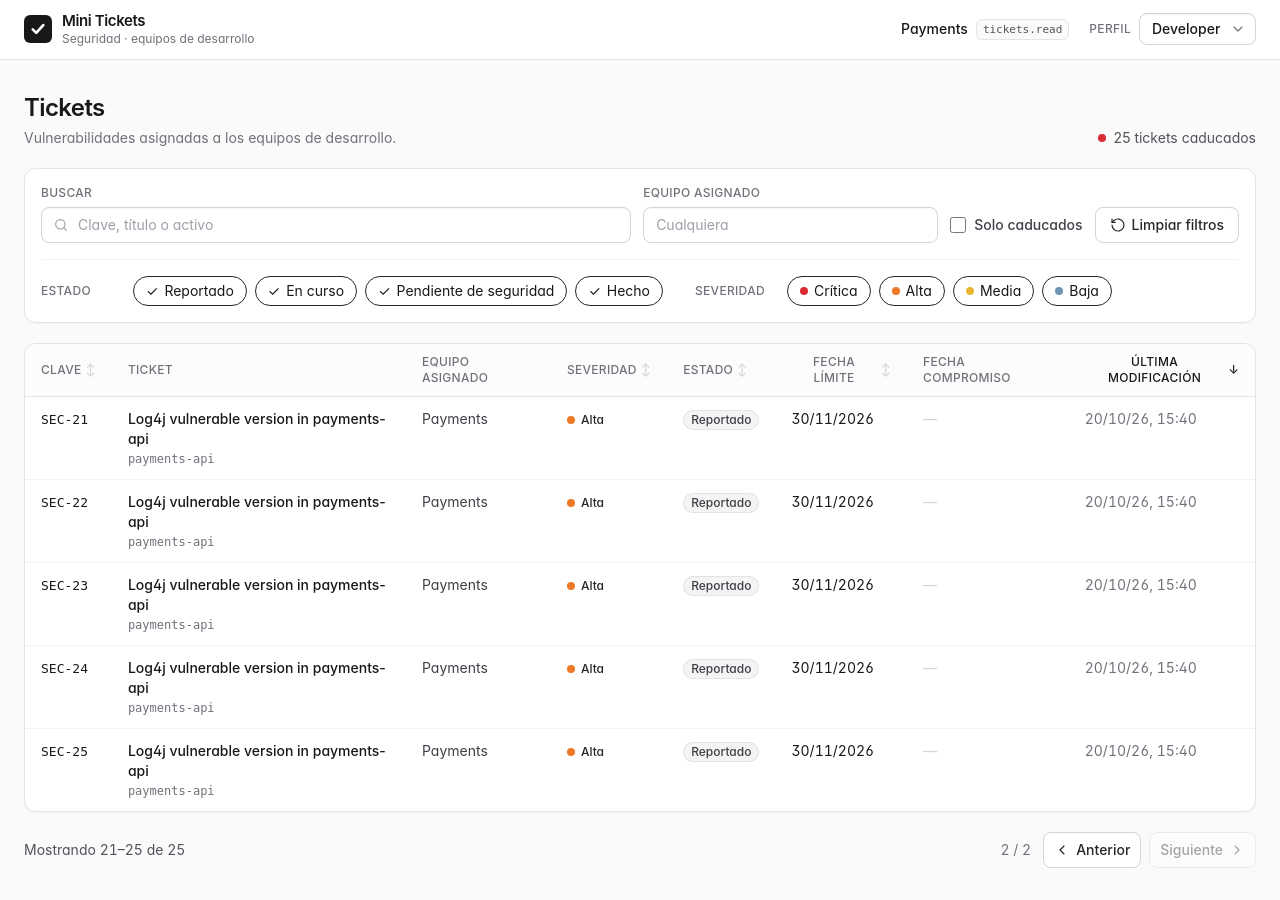
Test case: pagination › the previous page goes back
expect the text "Mostrando 21–25 de 25" is shown: met, box [24,840,185,860]
Click the button "Anterior".
click(1092, 850)  # box [1043,832,1141,868]
(page scrolled)
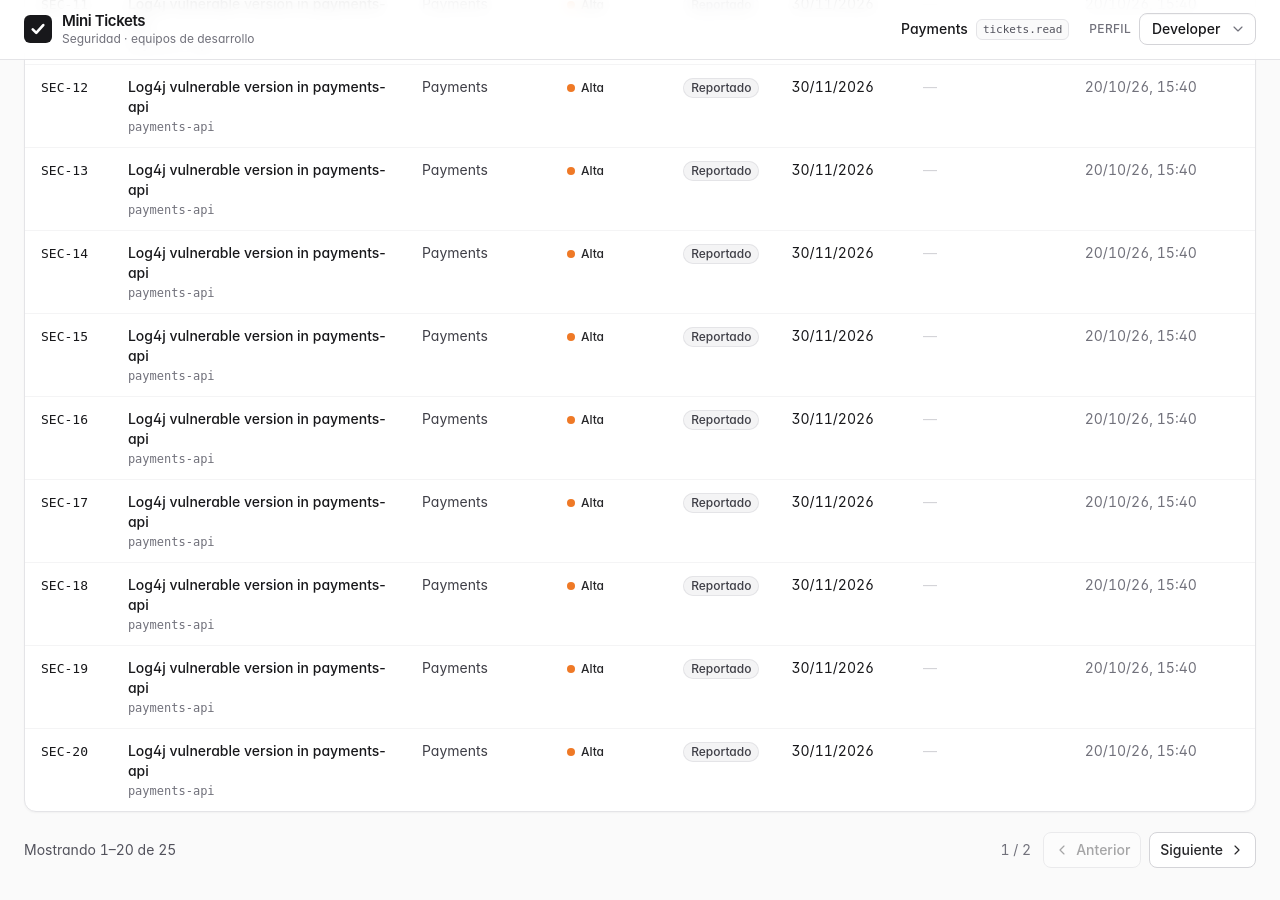
expect the text "Mostrando 1–20 de 25" is shown: met, box [24,840,176,860]
